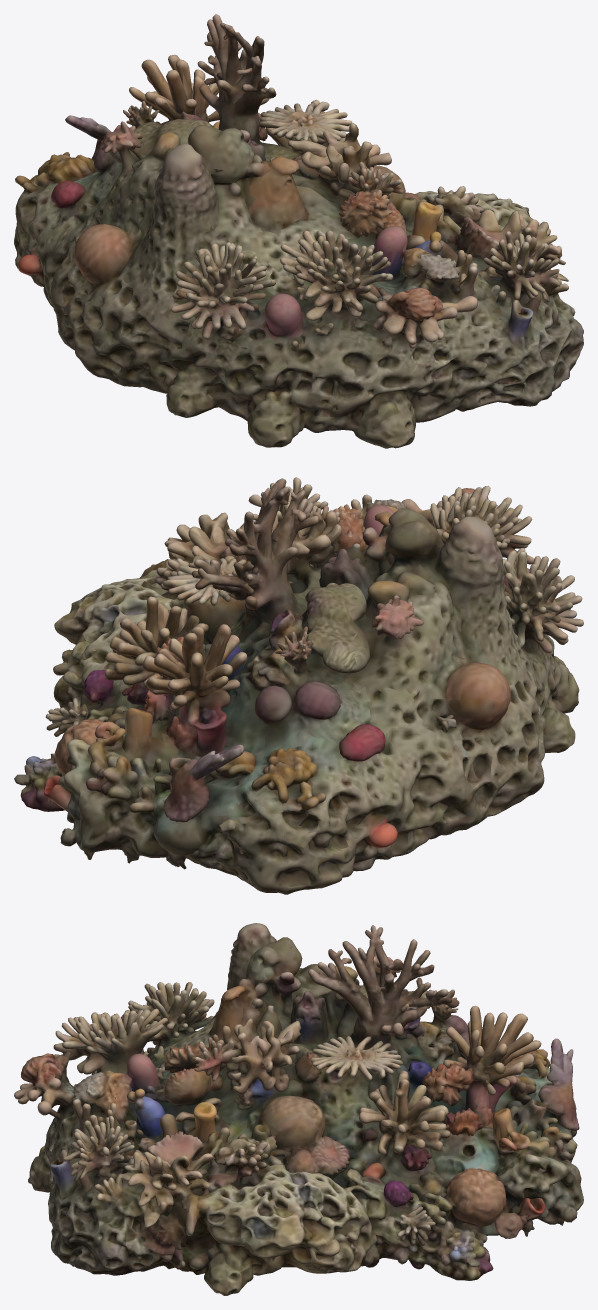
The model's file is ReefShelf.glb.
3 views of the same model, one above another, from view 1: azimuth 30°, elevation 25°; view 2: azimuth 150°, elevation 25°; view 3: azimuth 270°, elevation 25° (orthographic). The views are drawn at different scales.
Visible parts, largest first — view 1: tripo_node_d6195e38-683b-44e2-b464-88540a357d0d; view 2: tripo_node_d6195e38-683b-44e2-b464-88540a357d0d; view 3: tripo_node_d6195e38-683b-44e2-b464-88540a357d0d.
Part boxes in pixels (box(x1,y1,x2,y2)): tripo_node_d6195e38-683b-44e2-b464-88540a357d0d: box(14, 14, 583, 448); tripo_node_d6195e38-683b-44e2-b464-88540a357d0d: box(14, 477, 583, 894); tripo_node_d6195e38-683b-44e2-b464-88540a357d0d: box(14, 923, 583, 1295).
Bounding box in the file's own units: 0.8349 × 0.5301 × 1.
1 material, 1 textured.
